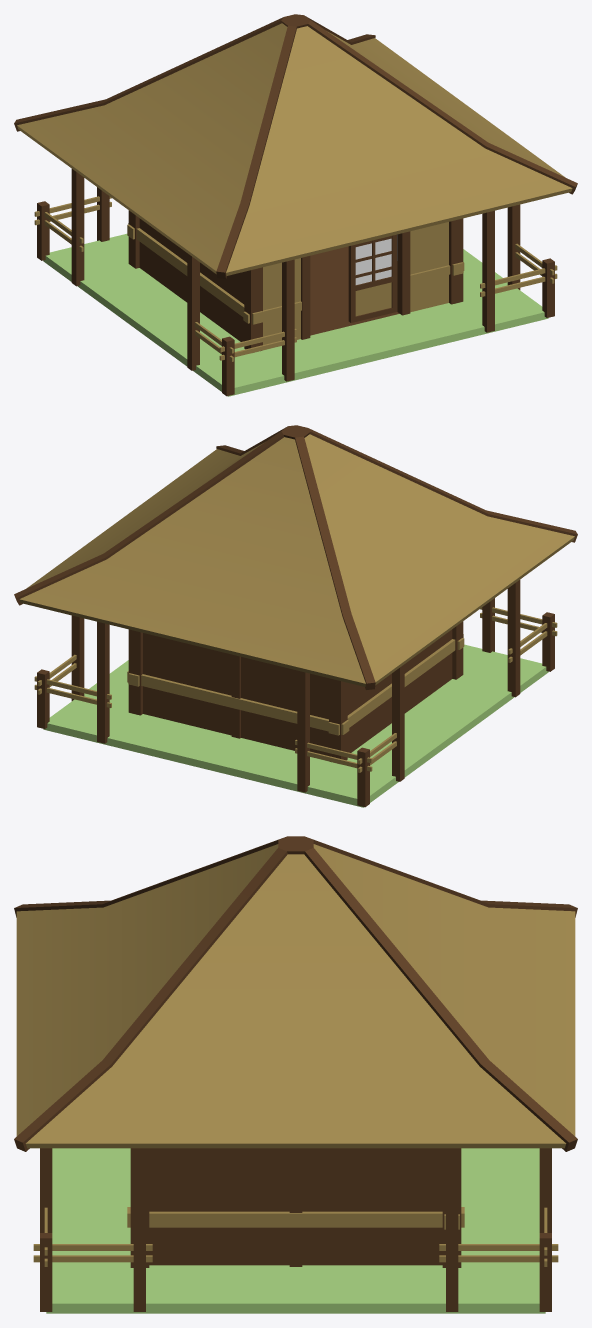
The model's file is JapaneseHouse.fbx.
3 renders of one model, top to bottom at view 1: azimuth 30°, elevation 25°; view 2: azimuth 150°, elevation 25°; view 3: azimuth 270°, elevation 25°, orthographic. The views are drawn at different scales.
Visible parts, largest first — view 1: Roof, OutterGround, VerticalPosts, HorizontalPosts, Walls, Door, InnerGround; view 2: Roof, OutterGround, VerticalPosts, Walls, HorizontalPosts; view 3: Roof, OutterGround, Walls, HorizontalPosts, VerticalPosts.
Boxes of the visible parts, x1,y1,x2,y2 form: Roof: (17, 23, 572, 275); OutterGround: (43, 233, 548, 396); VerticalPosts: (34, 169, 557, 396); HorizontalPosts: (14, 14, 577, 324); Walls: (139, 218, 448, 344); Door: (348, 234, 396, 322); InnerGround: (310, 246, 399, 335); Roof: (19, 434, 574, 686); OutterGround: (43, 644, 548, 807); VerticalPosts: (34, 580, 557, 807); Walls: (143, 629, 452, 755); HorizontalPosts: (14, 425, 577, 735); Roof: (16, 844, 575, 1148); OutterGround: (46, 1148, 545, 1313); Walls: (149, 1148, 442, 1265); HorizontalPosts: (14, 836, 577, 1229); VerticalPosts: (33, 1148, 558, 1311).
Bounding box in the file's own units: 903 × 643 × 903.
